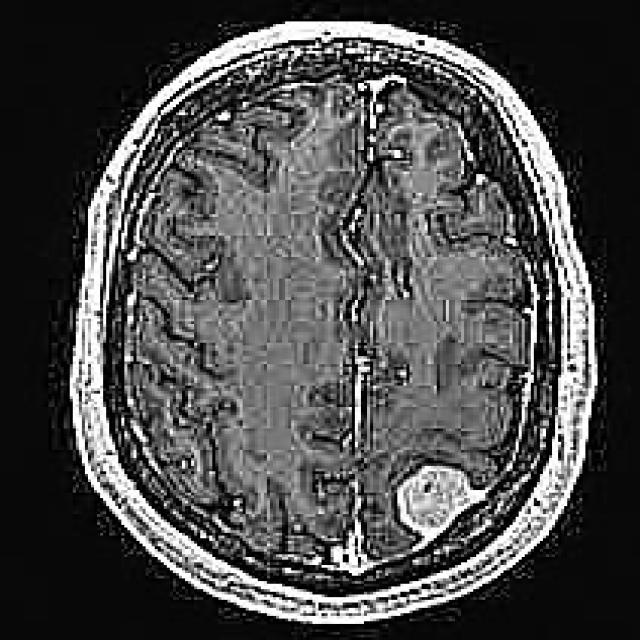Tumor-Cell: (393, 454, 480, 533)
